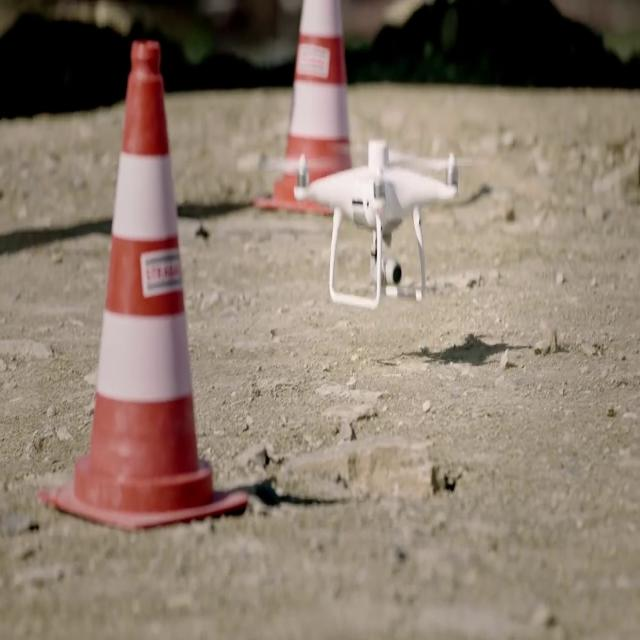drone: (280, 134, 478, 312)
